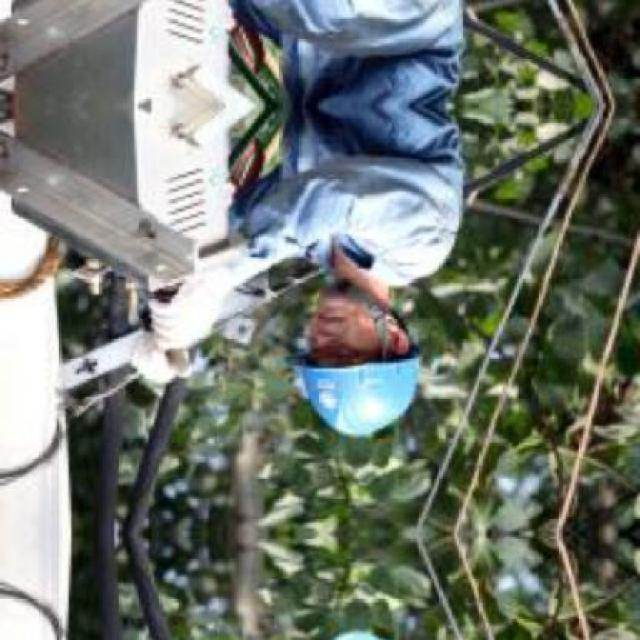safetyhelmet: (290, 278, 424, 438)
